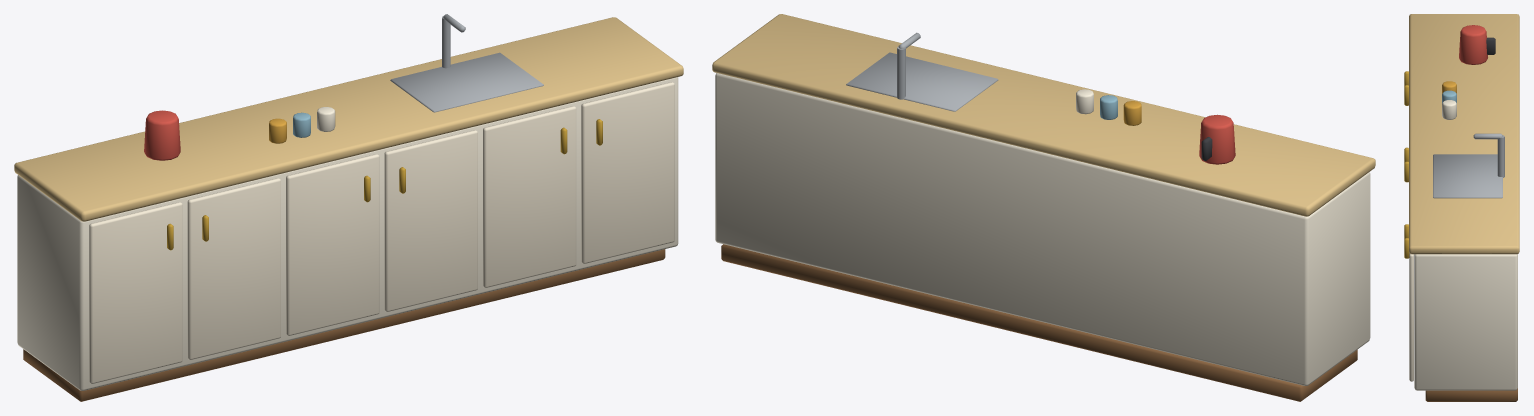
The model's file is counter.glb.
The picture shows the model from 3 angles, left to right: view 1: azimuth 30°, elevation 25°; view 2: azimuth 150°, elevation 25°; view 3: azimuth 270°, elevation 25°; orthographic projection. The views are drawn at different scales.
Parts seen in each view (by area): view 1: counter; view 2: counter; view 3: counter.
Boxes of the visible parts, x1,y1,x2,y2 form: counter: (14,14,683,401); counter: (712,14,1375,401); counter: (1404,14,1519,401).
Size of the model in its own units: 3 by 1.21 by 0.625.
1 material, 1 textured.
